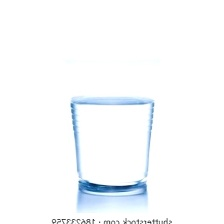glass: (55, 41, 169, 200)
